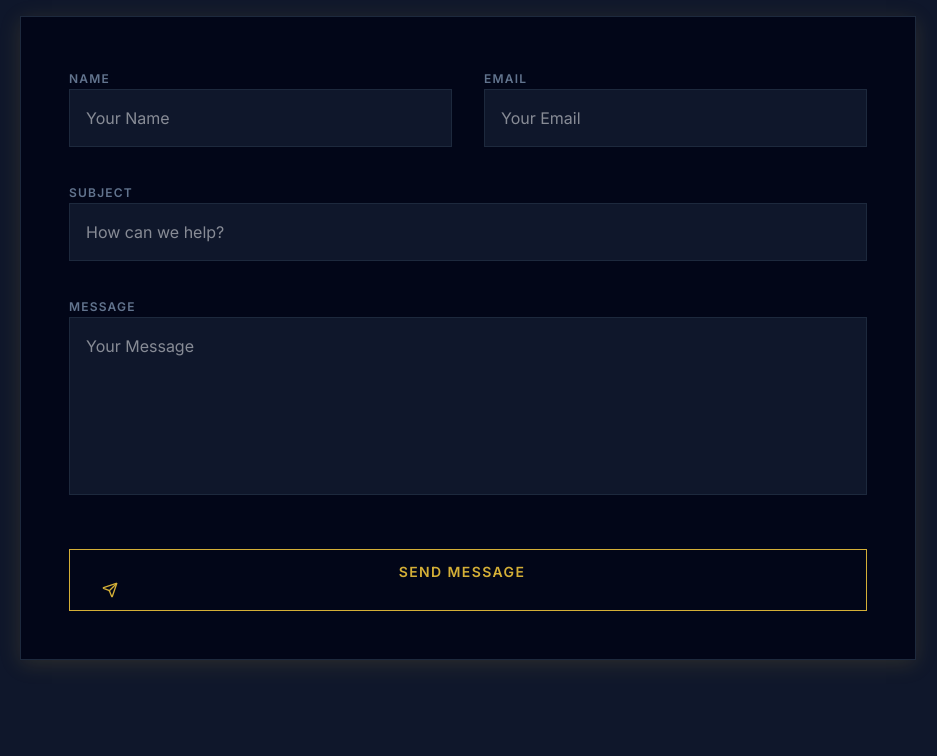
ContactForm Component › shows validation errors for empty fields
This screenshot has width=937, height=756.
(page scrolled)
What coordinates should you click on to do the following:
click the button "Send Message"
I would click on:
 (468, 580)
Its box is [69, 549, 867, 611].
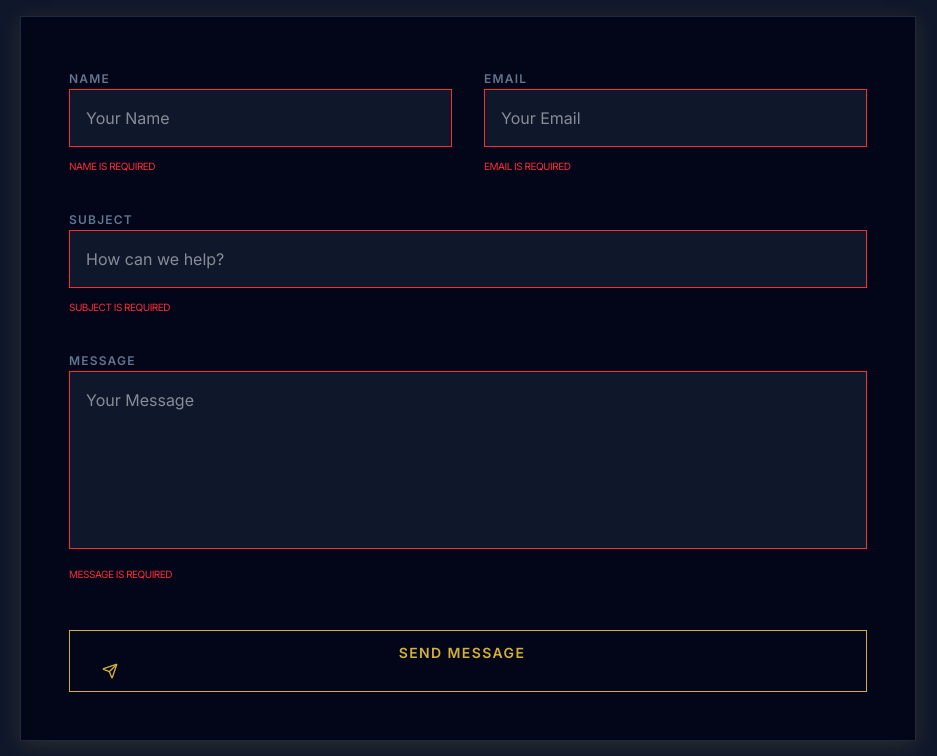
Expected: the text "Name is required" is shown, [69, 160, 155, 172]
